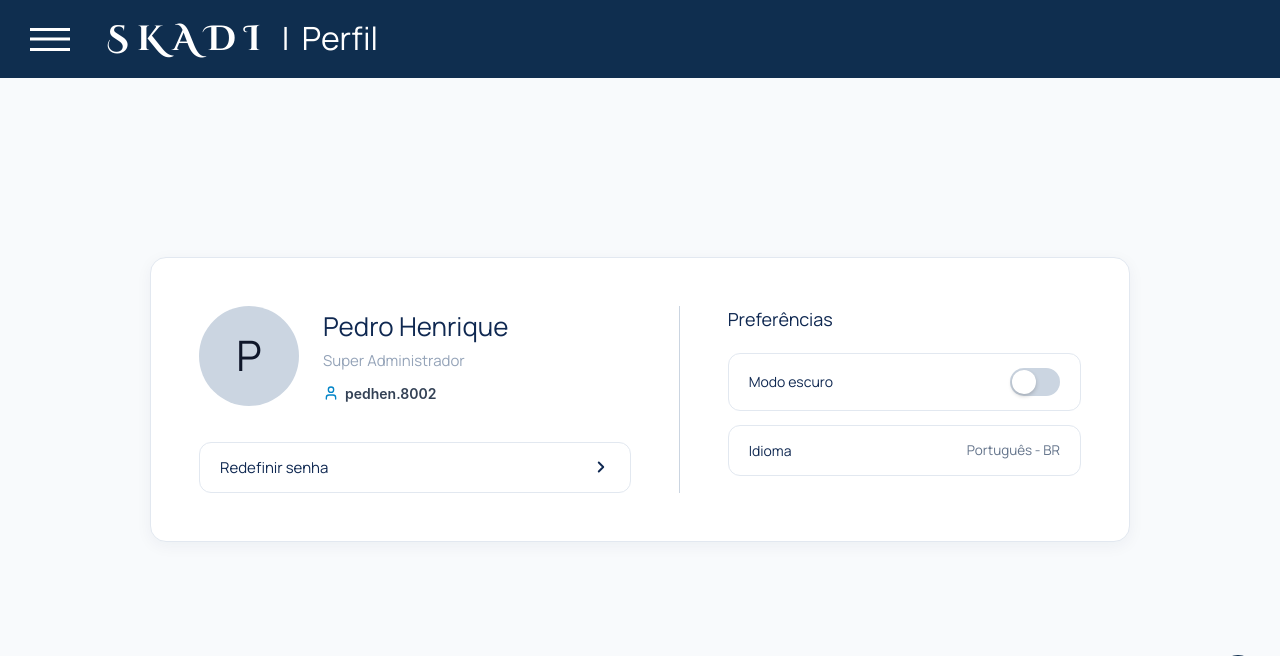
Test: ProfileScreen › exibe o diálogo de confirmação após preenchimento válido e permite confirmar
Click the button with aria-label "Redefinir senha de acesso" at (274, 467), box [199,442,631,492]
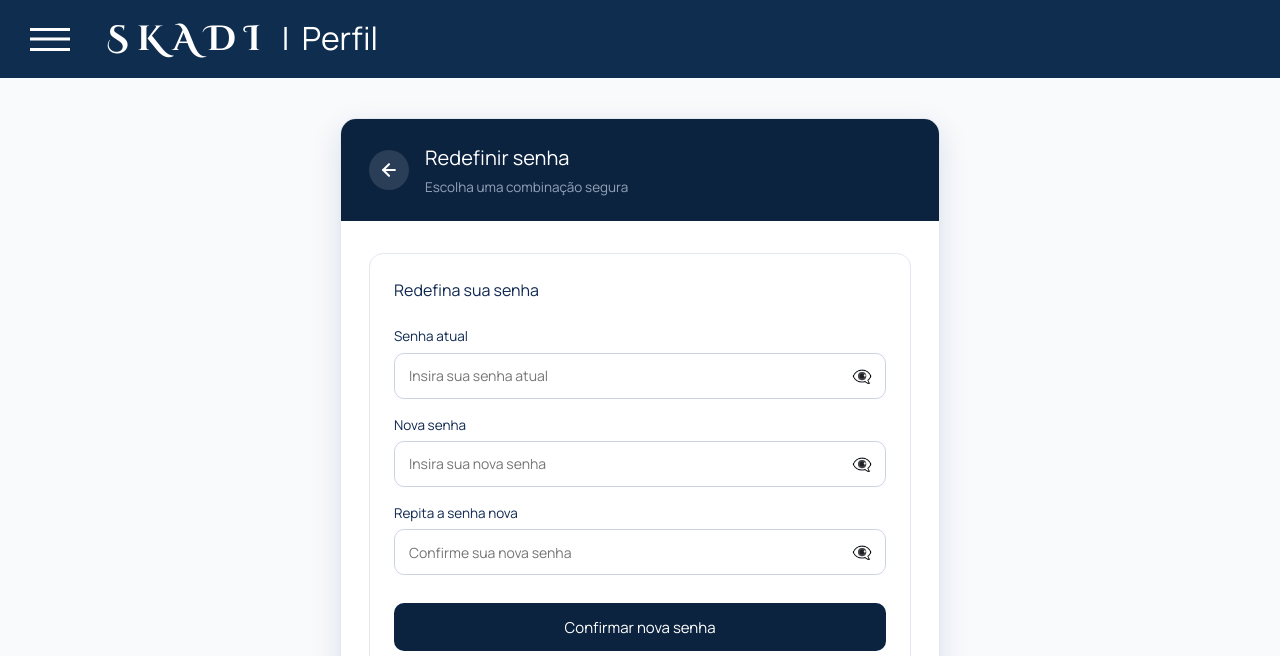
Type "antiga123" into the password field with placeholder "Insira sua senha atual" at (640, 376), box [394,352,886,398]
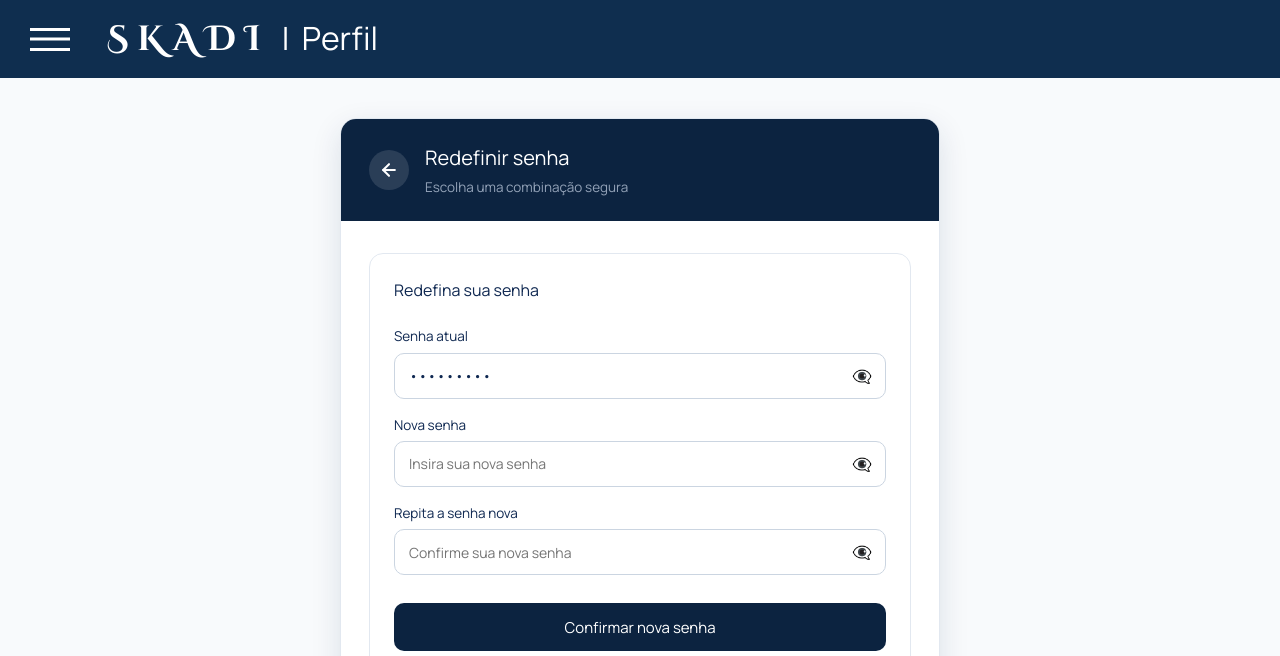
Type "nova12345" into the password field with placeholder "Insira sua nova senha" at (640, 464), box [394,441,886,487]
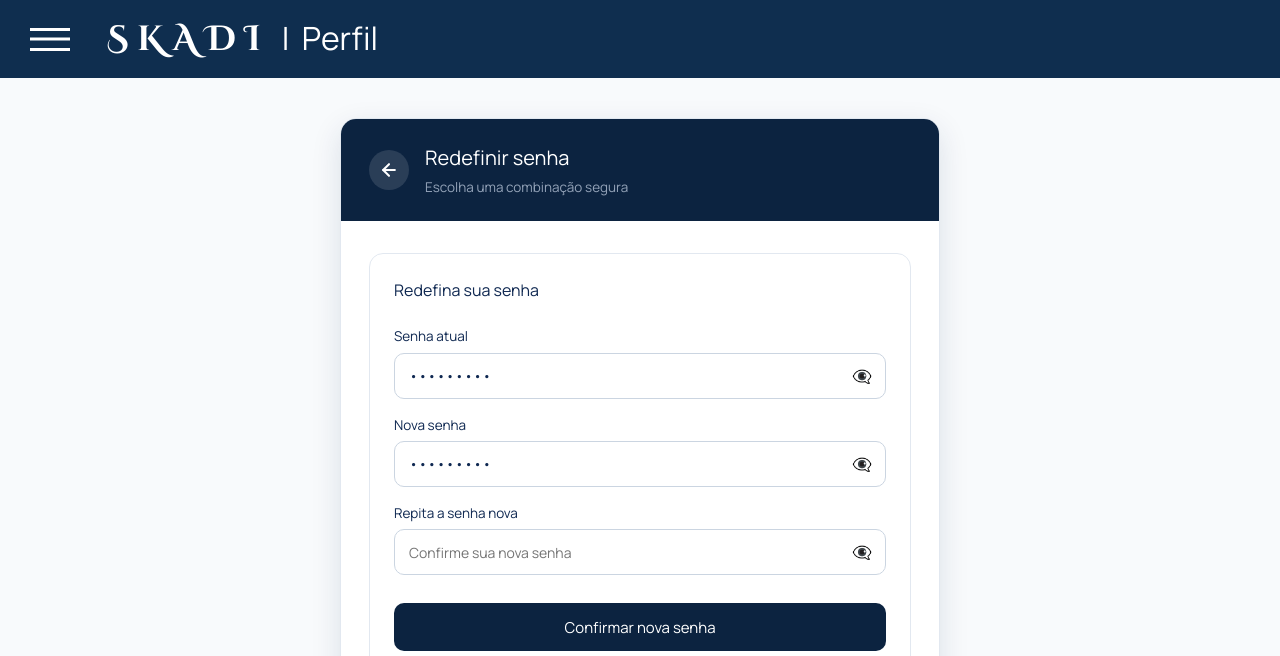
Type "nova12345" into the password field with placeholder "Confirme sua nova senha" at (640, 552), box [394,529,886,575]
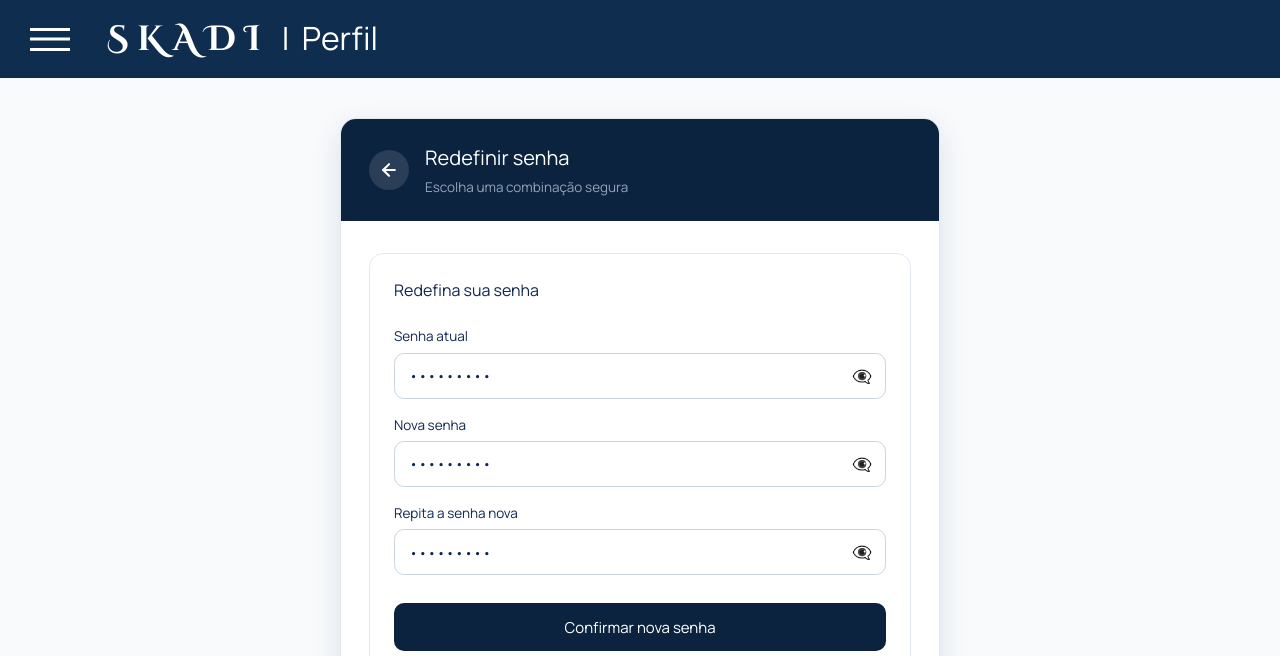
Click the button "Confirmar nova senha" at (640, 627), box [394,603,886,651]
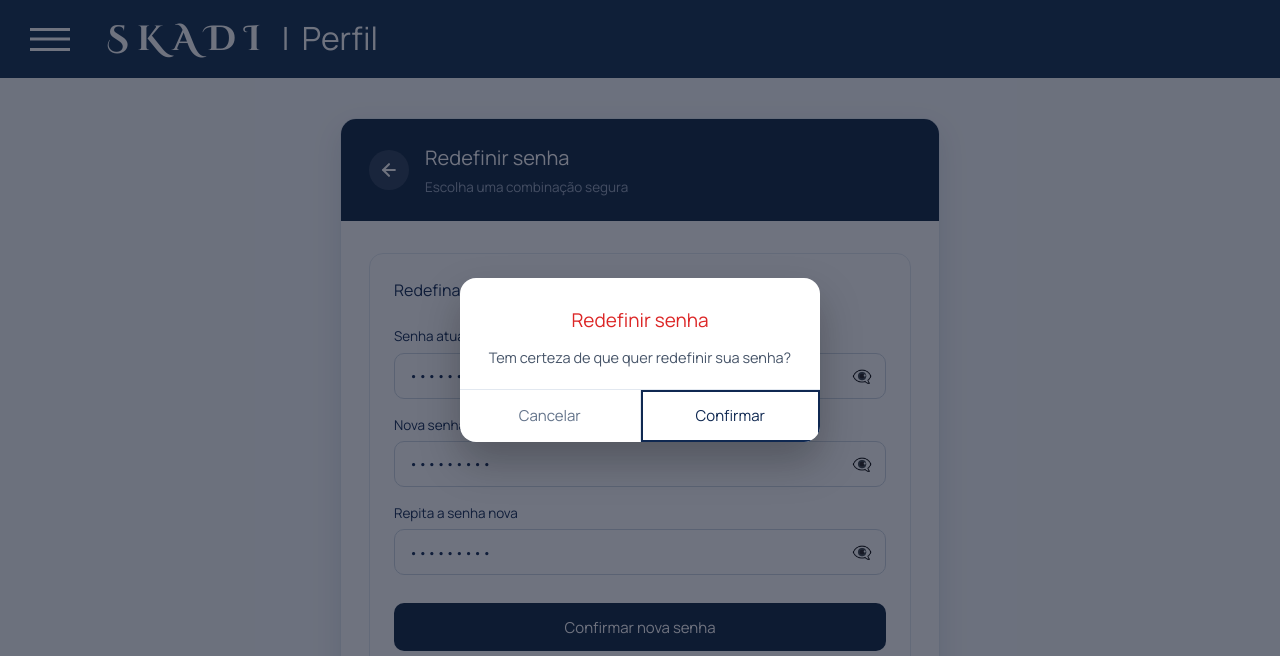
Now the text "Tem certeza de que quer redefinir sua senha?" is shown, box [484,347,796,369]
Click the button "Confirmar" at (730, 416), box [640,390,820,442]
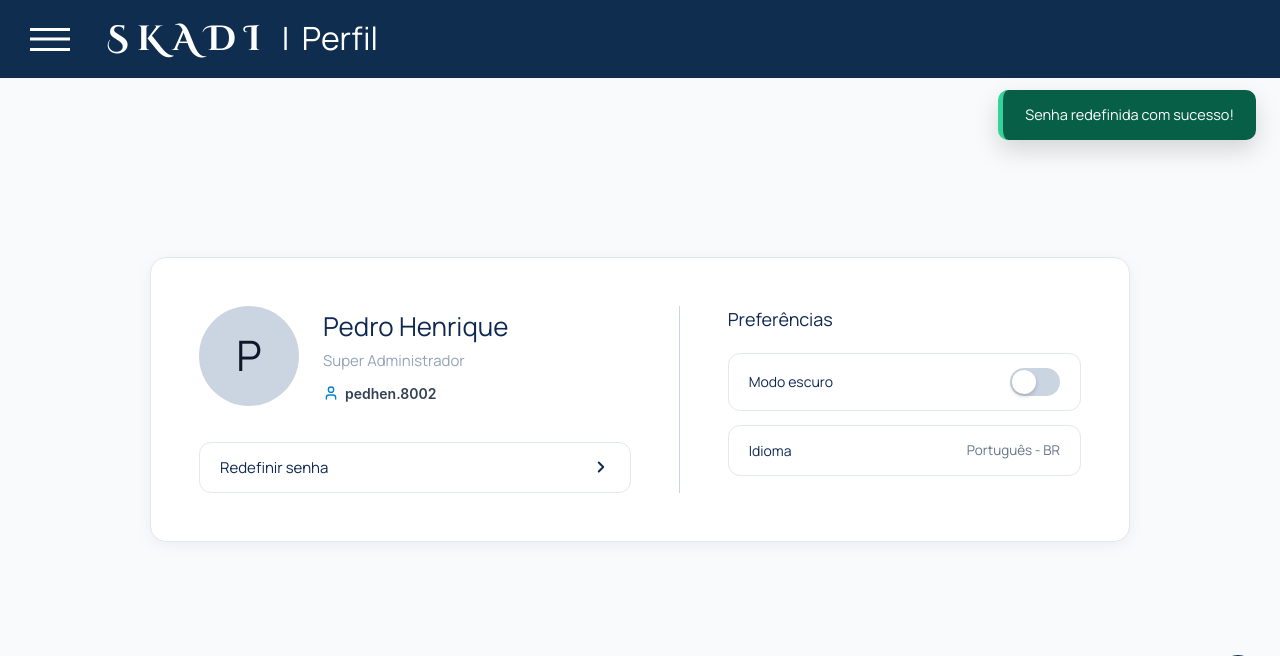
Now the text "Senha redefinida com sucesso!" is shown, box [998,90,1256,140]
